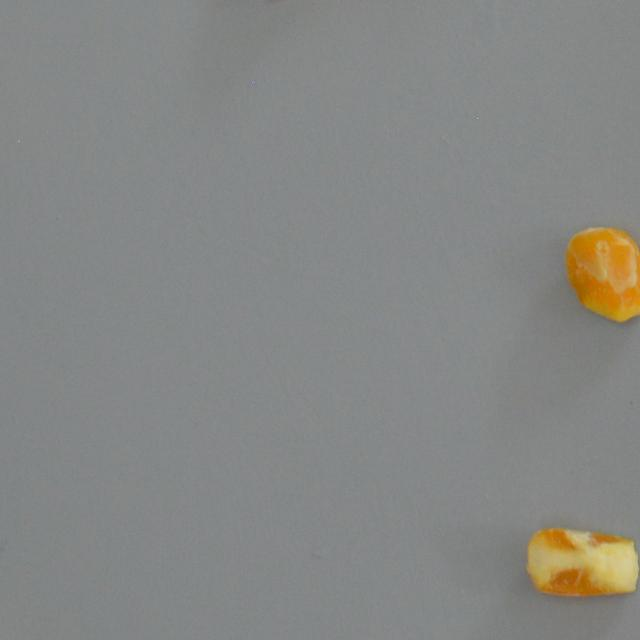pelicula: (522, 527, 638, 598), (562, 224, 640, 324)
